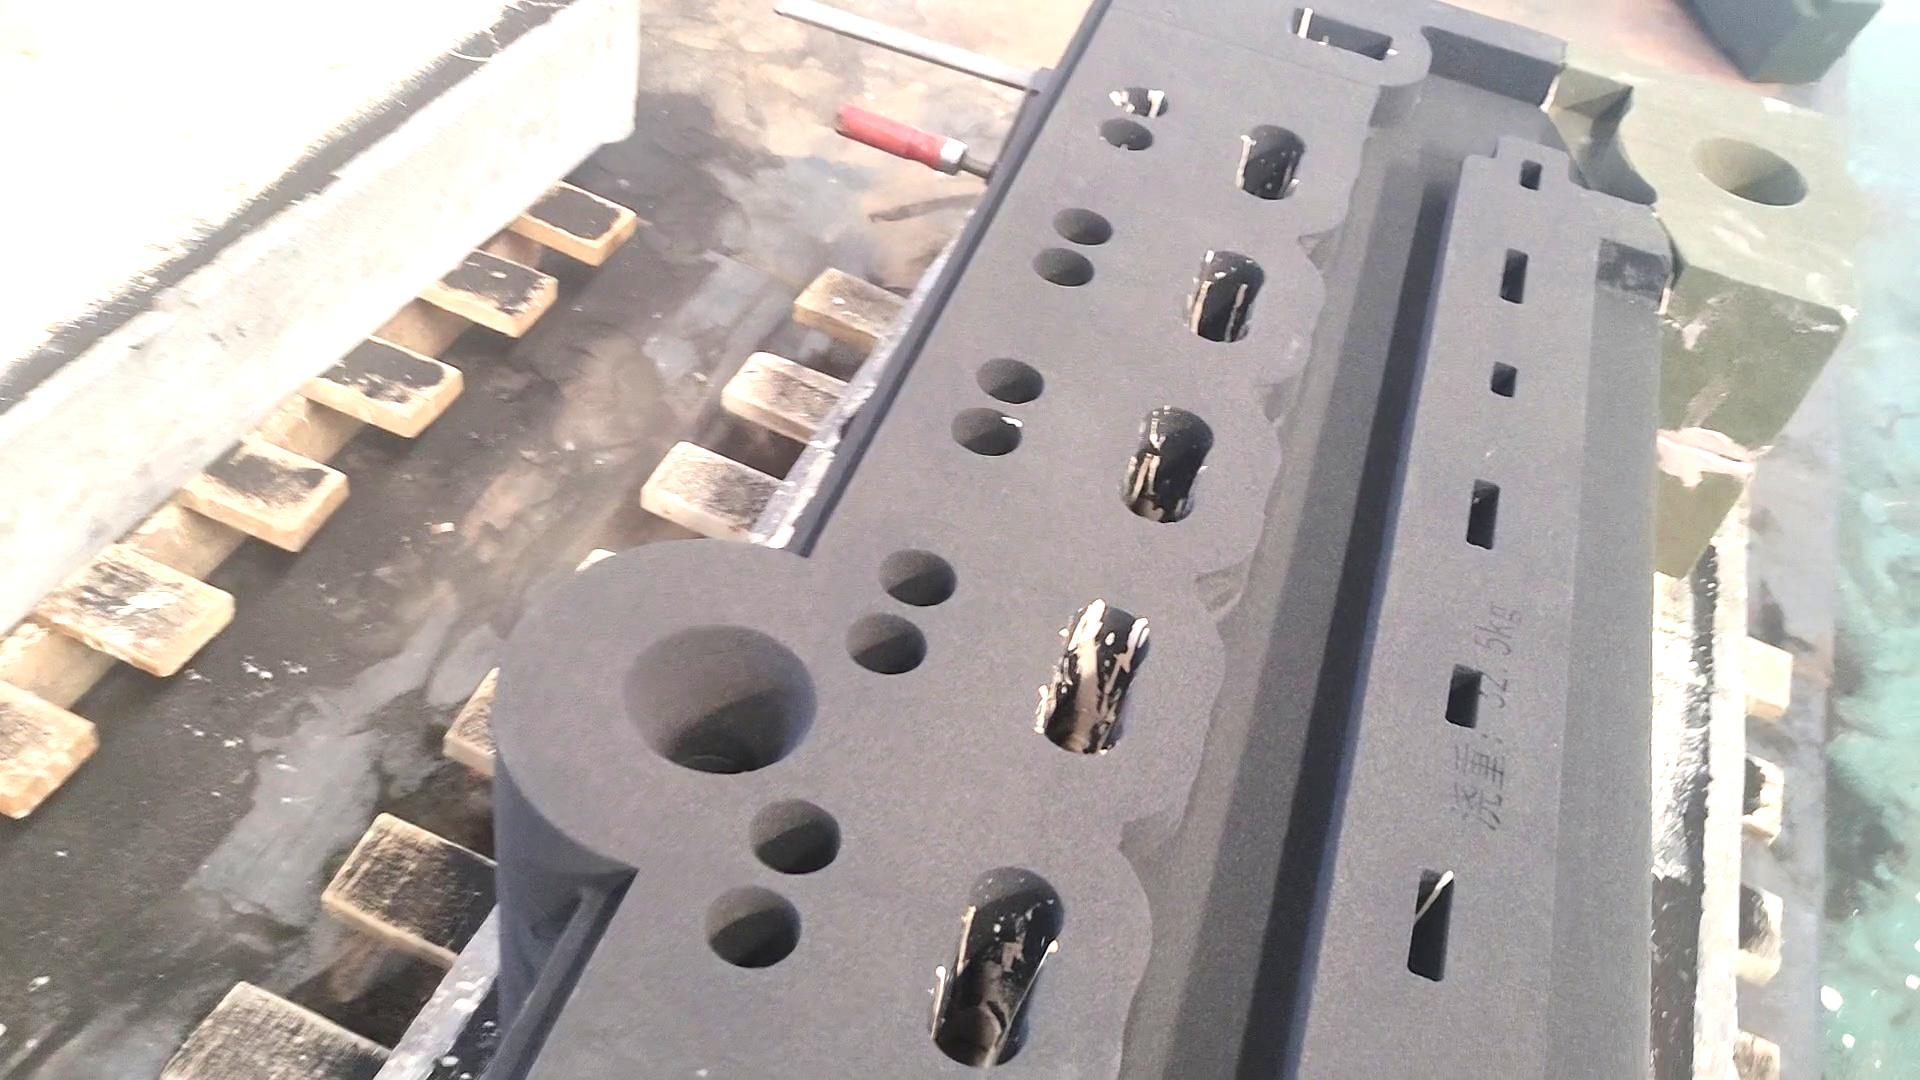pouring hole: (622, 626, 816, 774), (1693, 137, 1808, 207)
